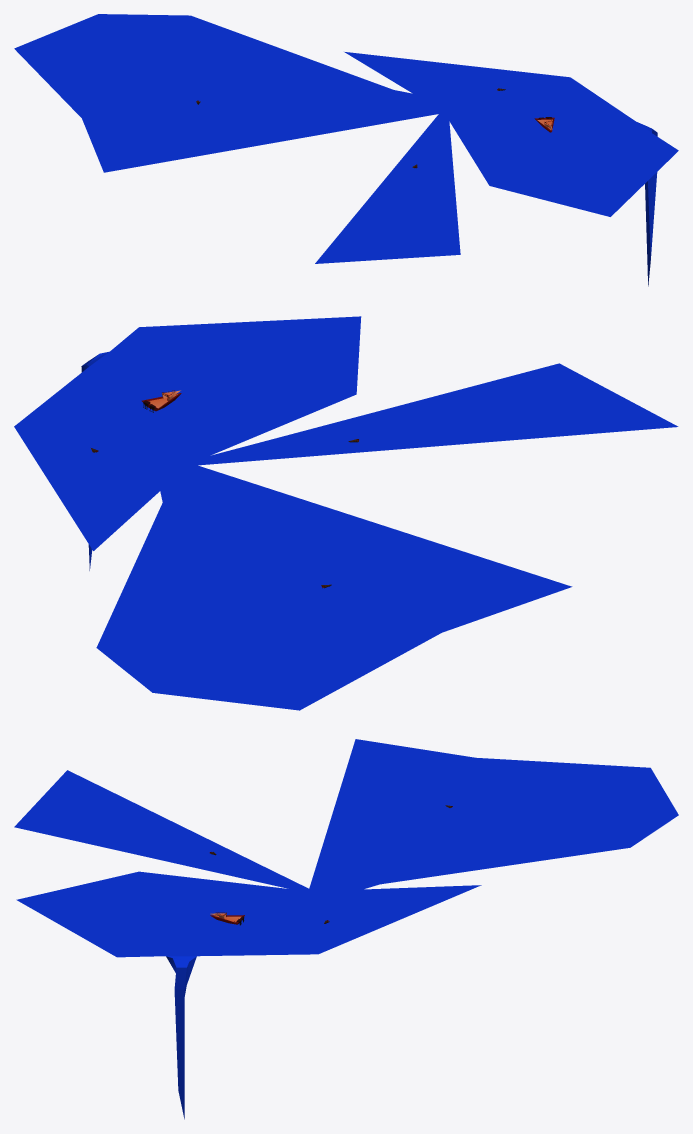
Rendered from c_water.fbx.
3 renders of one model, top to bottom at view 1: azimuth 30°, elevation 25°; view 2: azimuth 150°, elevation 25°; view 3: azimuth 270°, elevation 25°, orthographic. The views are drawn at different scales.
Visible parts, largest first — view 1: c_water; view 2: c_water; view 3: c_water.
Part boxes in pixels (x1=…): c_water: x1=14, y1=14, x2=678, y2=286; c_water: x1=14, y1=316, x2=678, y2=710; c_water: x1=14, y1=739, x2=678, y2=1119.
Size of the model in its own units: 455 by 161 by 574.
